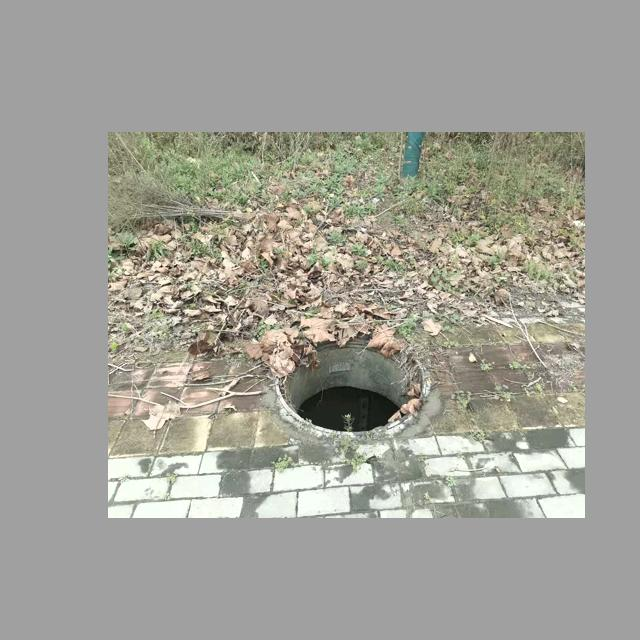lose: (274, 334, 428, 431)
